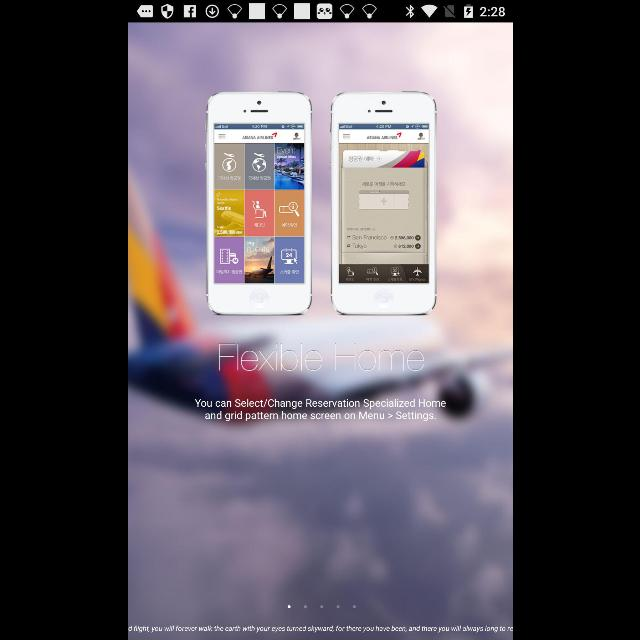backgroundimage: (128, 22, 512, 640)
image: (204, 90, 312, 316), (328, 90, 436, 316)
pageindicator: (286, 605, 356, 609)
text: (216, 342, 424, 373), (193, 398, 445, 422), (128, 625, 512, 633)
uppertaskbar: (128, 1, 512, 23)
